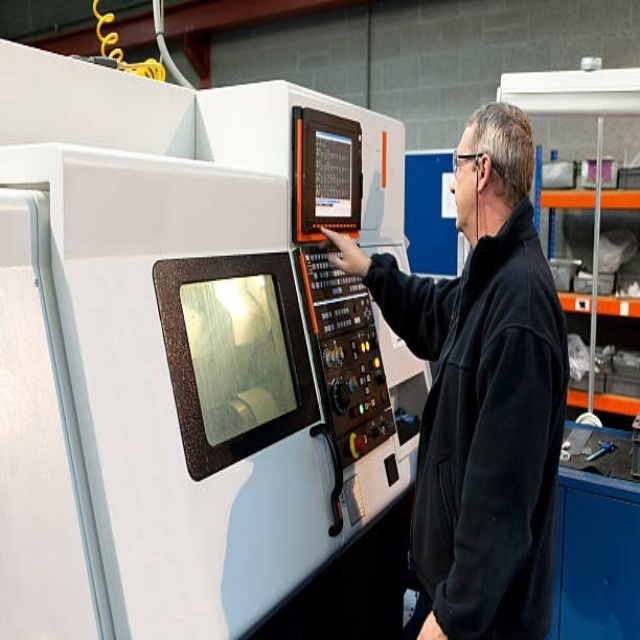Gafas: (453, 151, 502, 178)
Sin_guantes: (320, 220, 371, 276)
Sin_mascara: (451, 180, 478, 229)
